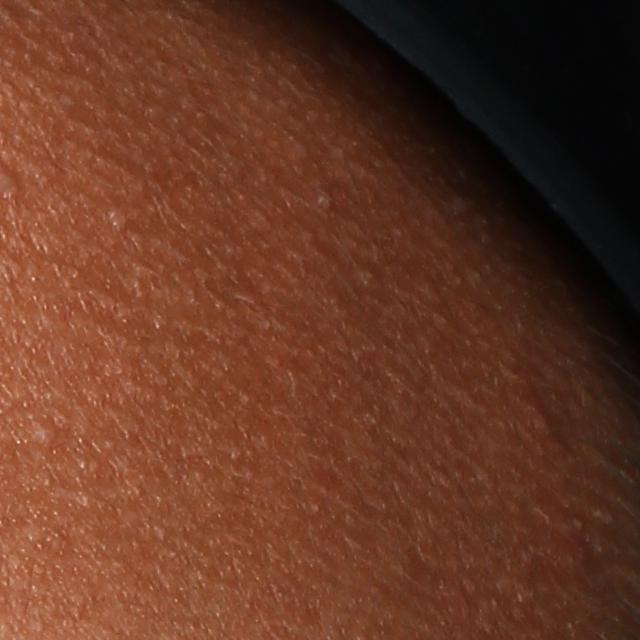comedo: (102, 199, 135, 237), (314, 181, 341, 212), (32, 418, 57, 446)
